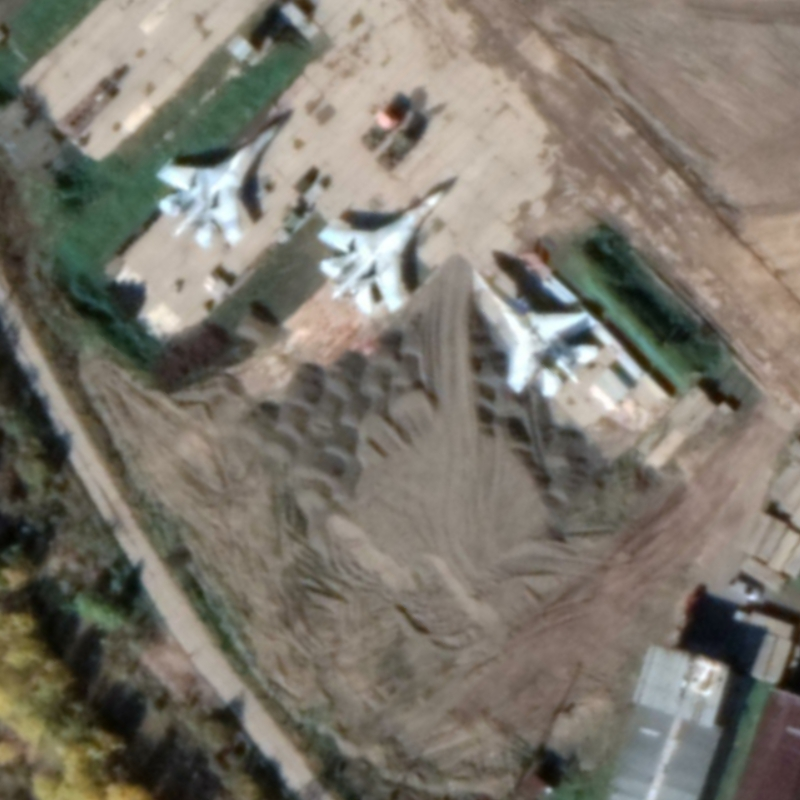A1: (467, 264, 602, 402), (312, 185, 447, 318), (153, 119, 283, 252)
